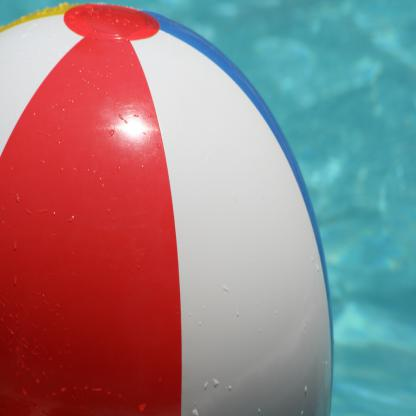Ball: (0, 5, 336, 411)
